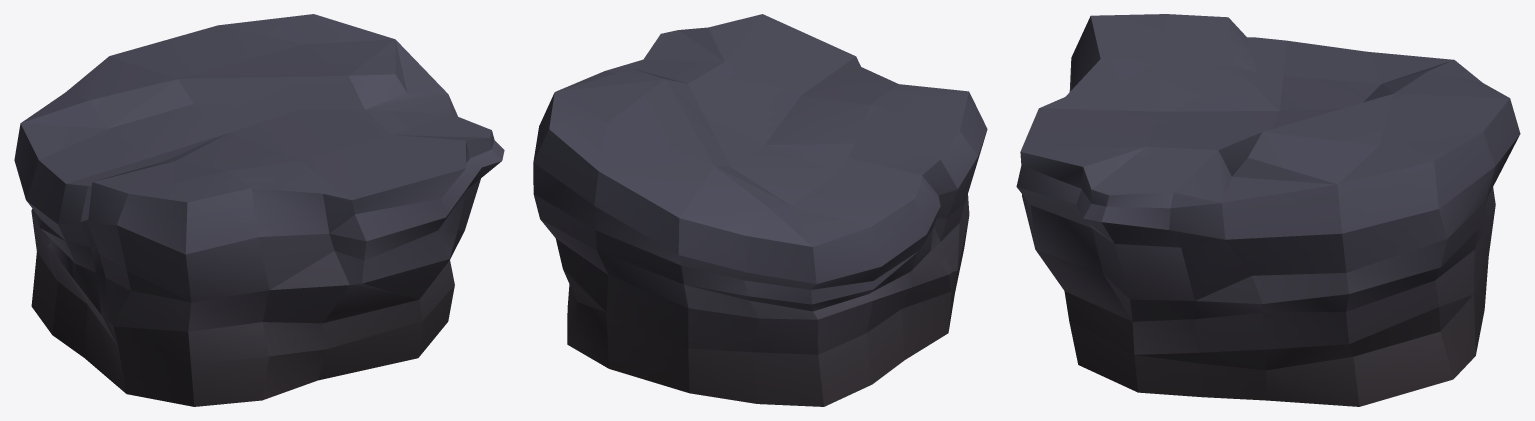
Rendered from cliffmesh_rock.glb.
3 renders of one model, left to right at view 1: azimuth 30°, elevation 25°; view 2: azimuth 150°, elevation 25°; view 3: azimuth 270°, elevation 25°, orthographic. The views are drawn at different scales.
Visible parts, largest first — view 1: Cube.001; view 2: Cube.001; view 3: Cube.001.
Part boxes in pixels (left/top/right/bottom): Cube.001: left=14, top=14, right=504, bottom=406; Cube.001: left=533, top=14, right=987, bottom=406; Cube.001: left=1016, top=14, right=1520, bottom=406.
Size of the model in its own units: 9.59 by 5.55 by 10.03.
1 material, 1 textured.
